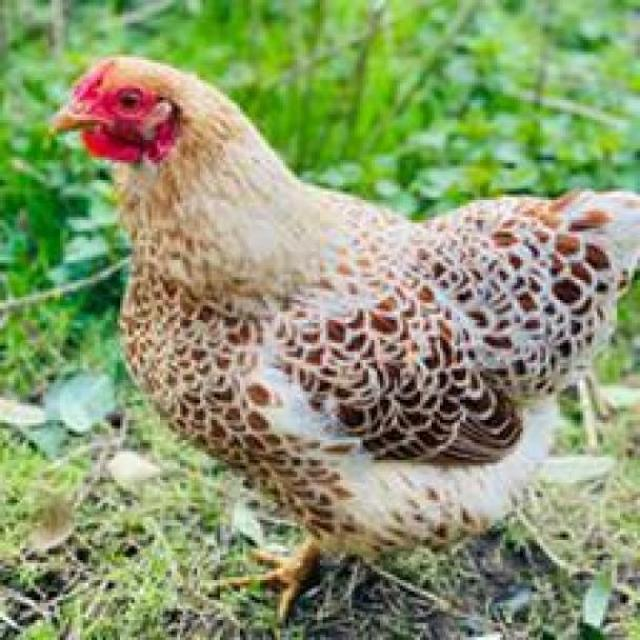Chicken: (45, 42, 639, 640)
